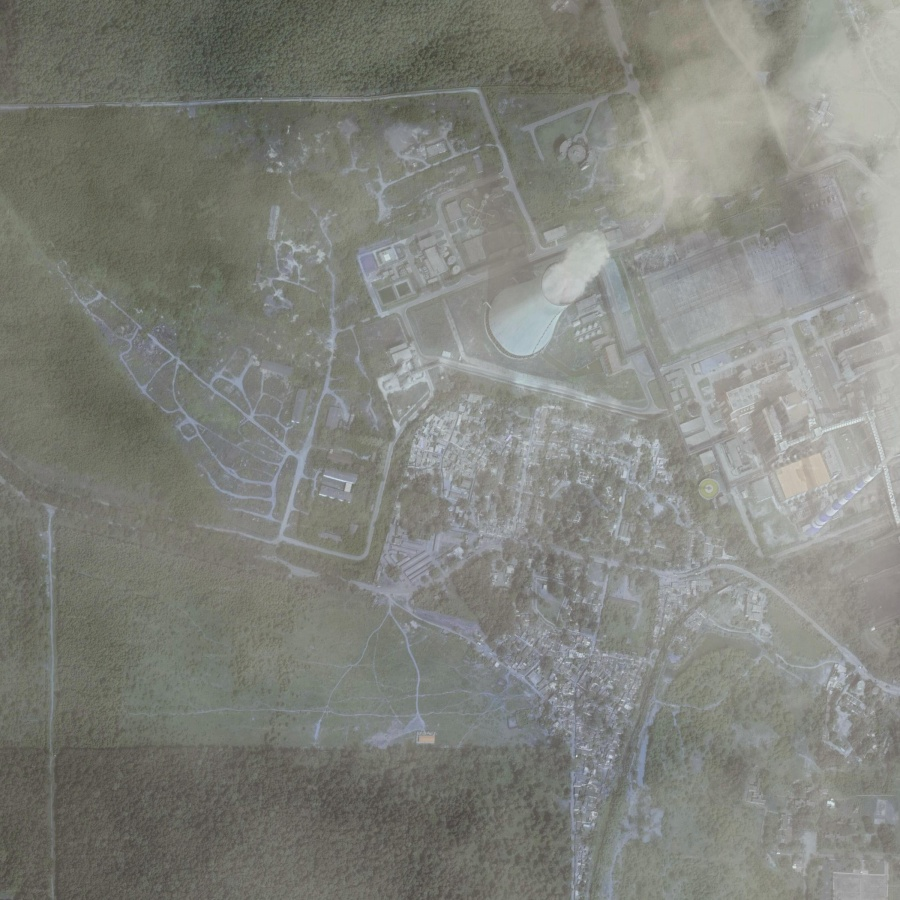PowerPlant: (478, 191, 633, 402)
